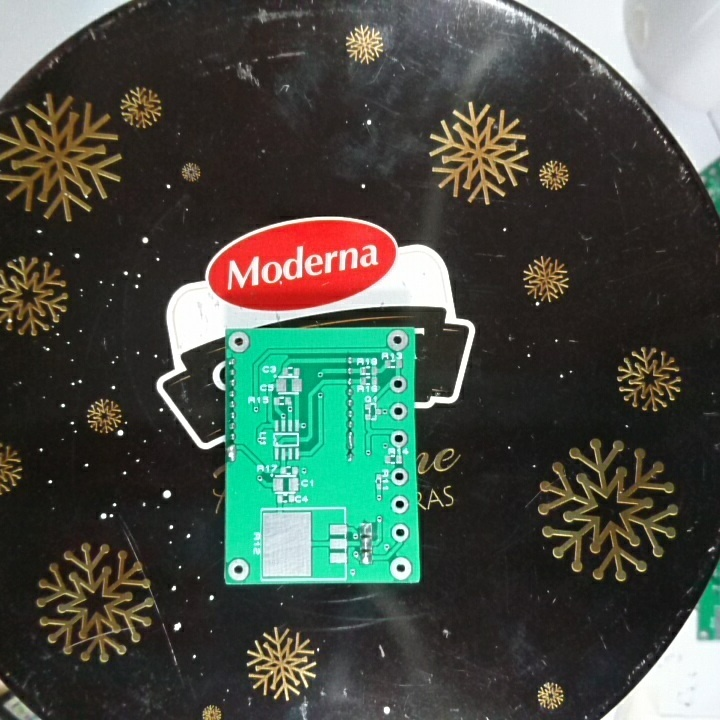F: (225, 331, 255, 355), (388, 555, 414, 581), (228, 556, 251, 583), (385, 328, 410, 352), (387, 399, 411, 424), (388, 466, 412, 488), (388, 494, 411, 516), (388, 374, 408, 398), (389, 428, 410, 450), (390, 522, 409, 543)
P: (344, 429, 357, 452), (226, 442, 237, 462)
